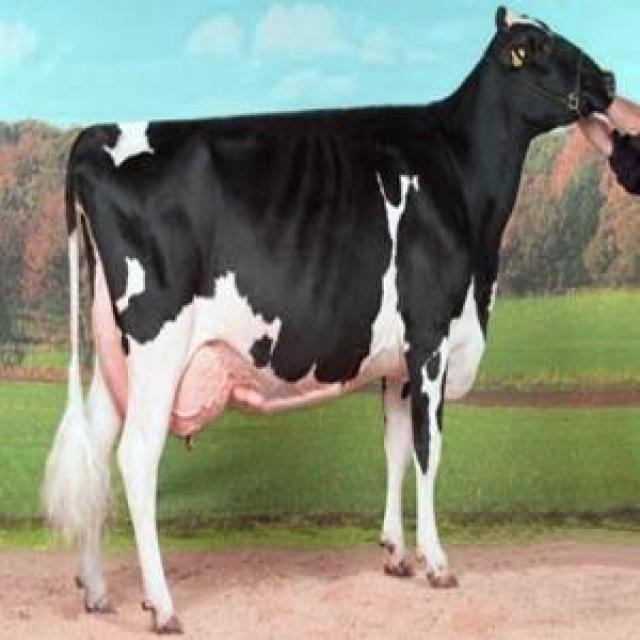cow: (44, 9, 614, 633)
